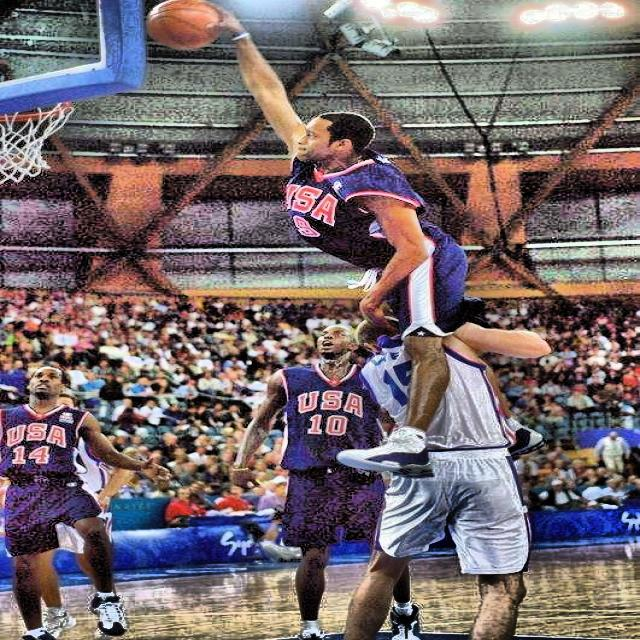board: (145, 2, 224, 50)
